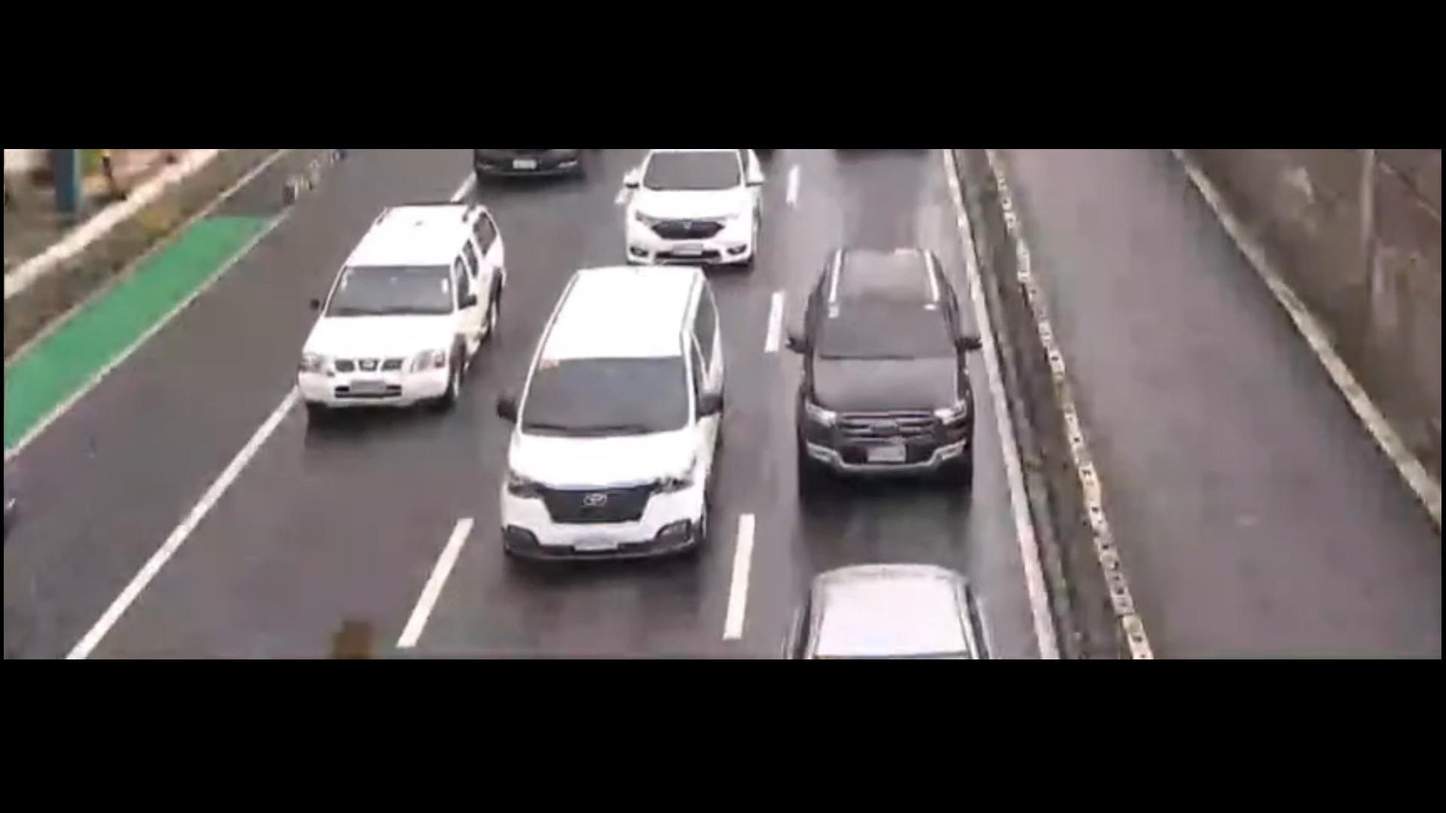SUV: (236, 202, 561, 435), (810, 219, 998, 509), (612, 142, 786, 286)
Van: (480, 239, 746, 580)
